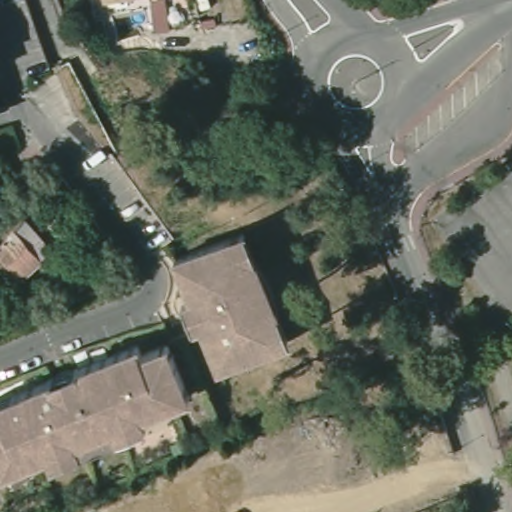pool: (132, 8, 149, 25)
